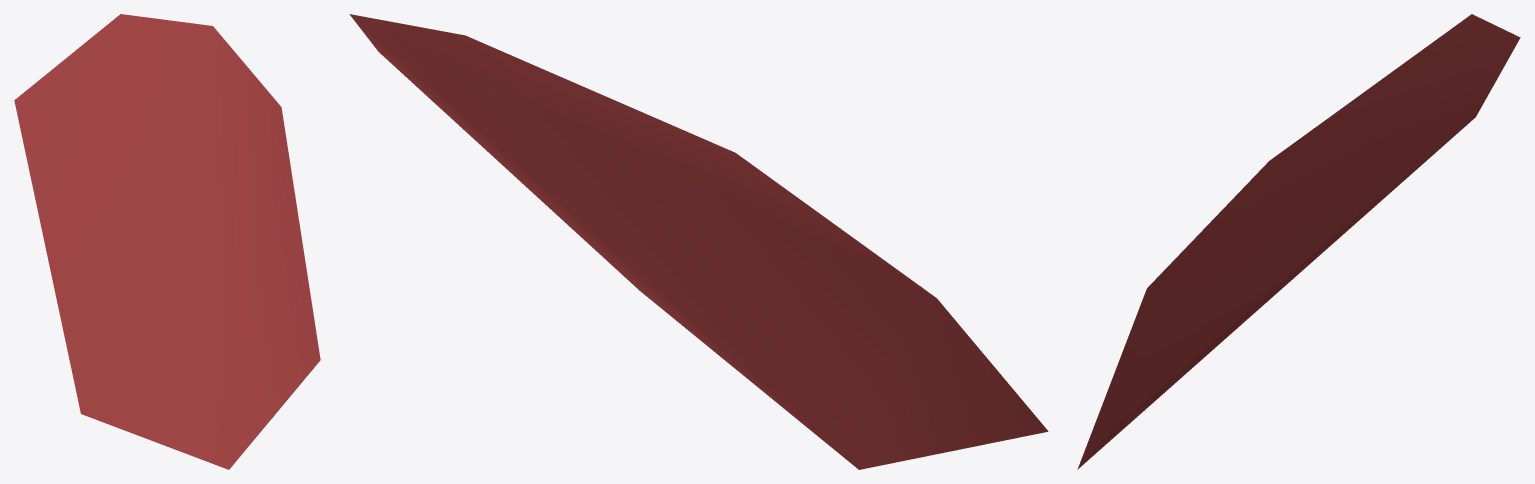
Rendered from extensor-digitorum-e6r.glb.
3 renders of one model, left to right at view 1: azimuth 30°, elevation 25°; view 2: azimuth 150°, elevation 25°; view 3: azimuth 270°, elevation 25°, orthographic. The views are drawn at different scales.
Parts seen in each view (by area): view 1: Extensor digitorum.e6r; view 2: Extensor digitorum.e6r; view 3: Extensor digitorum.e6r.
Part boxes in pixels (left/top/right/bottom): Extensor digitorum.e6r: left=14, top=14, right=320, bottom=469; Extensor digitorum.e6r: left=349, top=14, right=1048, bottom=469; Extensor digitorum.e6r: left=1077, top=14, right=1520, bottom=469.
Bounding box in the file's own units: 0.00452 × 0.00517 × 0.00446.
